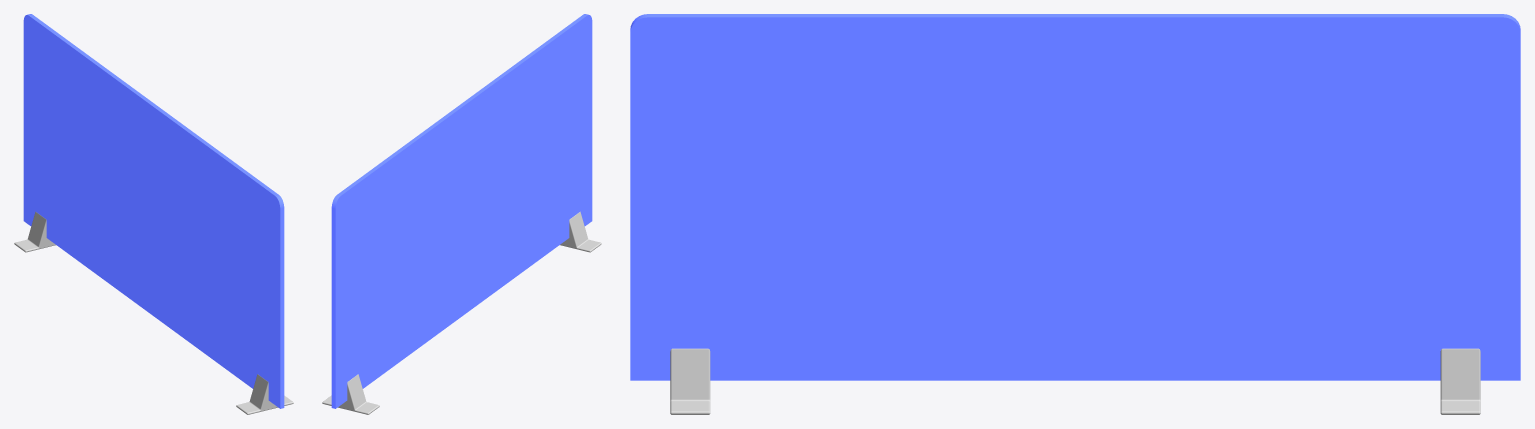
The model's file is rgiro_sanwa_partition.dae.
The picture shows the model from 3 angles, left to right: view 1: azimuth 30°, elevation 25°; view 2: azimuth 150°, elevation 25°; view 3: azimuth 270°, elevation 25°; orthographic projection. The views are drawn at different scales.
Visible parts, largest first — view 1: Body1, Body2, Body3; view 2: Body1, Body3, Body2; view 3: Body1, Body3, Body2.
Boxes of the visible parts, box(x1,y1,x2,y2) form: Body1: box(23, 14, 284, 408); Body2: box(236, 374, 293, 414); Body3: box(14, 211, 55, 252); Body1: box(331, 14, 592, 408); Body3: box(322, 374, 379, 414); Body2: box(560, 211, 601, 252); Body1: box(630, 14, 1520, 380); Body3: box(1440, 348, 1480, 414); Body2: box(670, 348, 710, 414).
Bounding box in the file's own units: 0.105 × 1 × 0.471.
